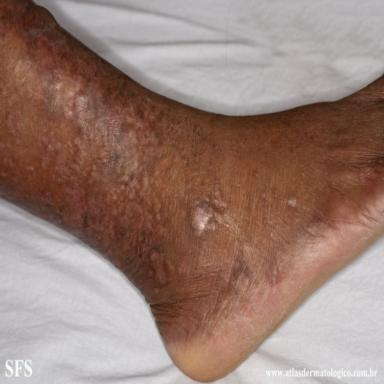Epidermolysis-Bullosa-Pruriginosa: (0, 2, 177, 304), (191, 178, 227, 238), (265, 257, 283, 283)
